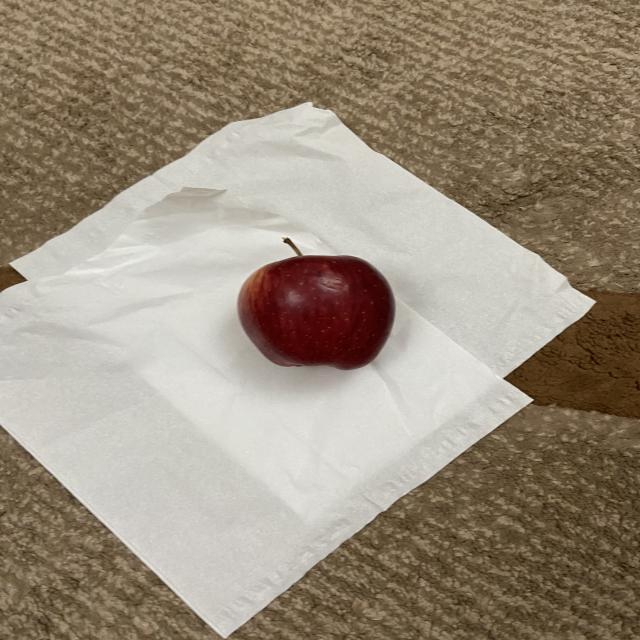apple: (218, 233, 404, 375)
